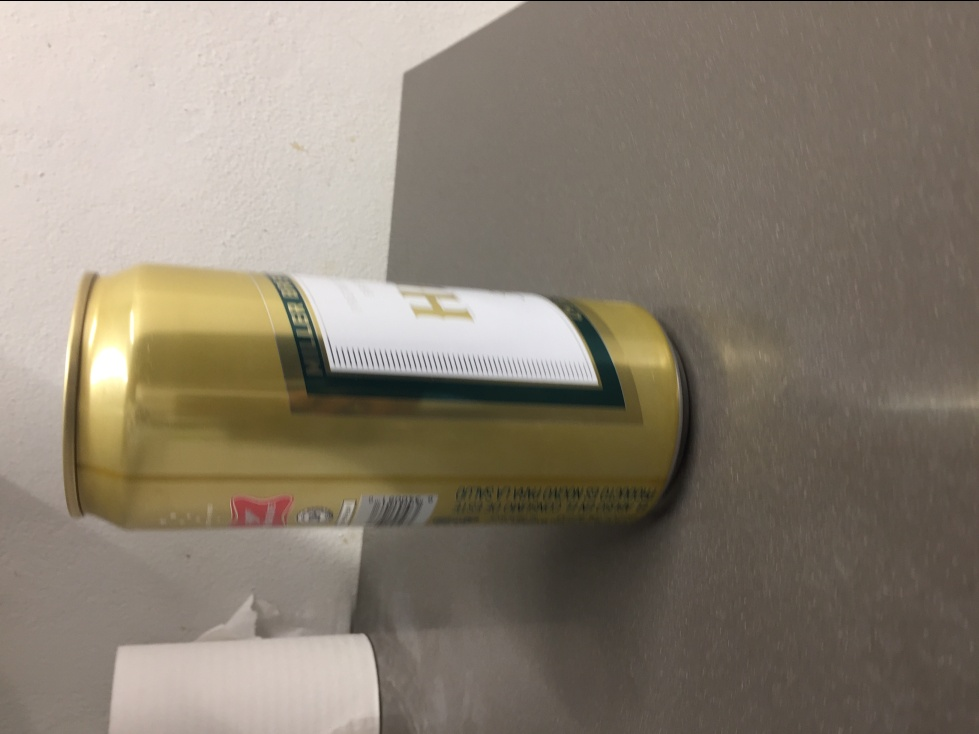miller: (53, 257, 690, 535)
